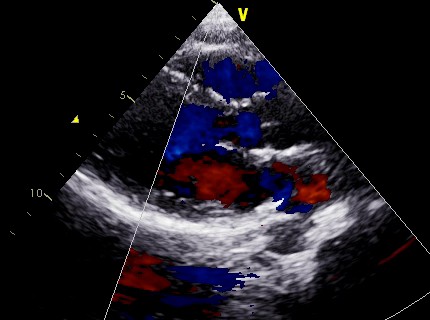MR: (150, 132, 252, 226)
